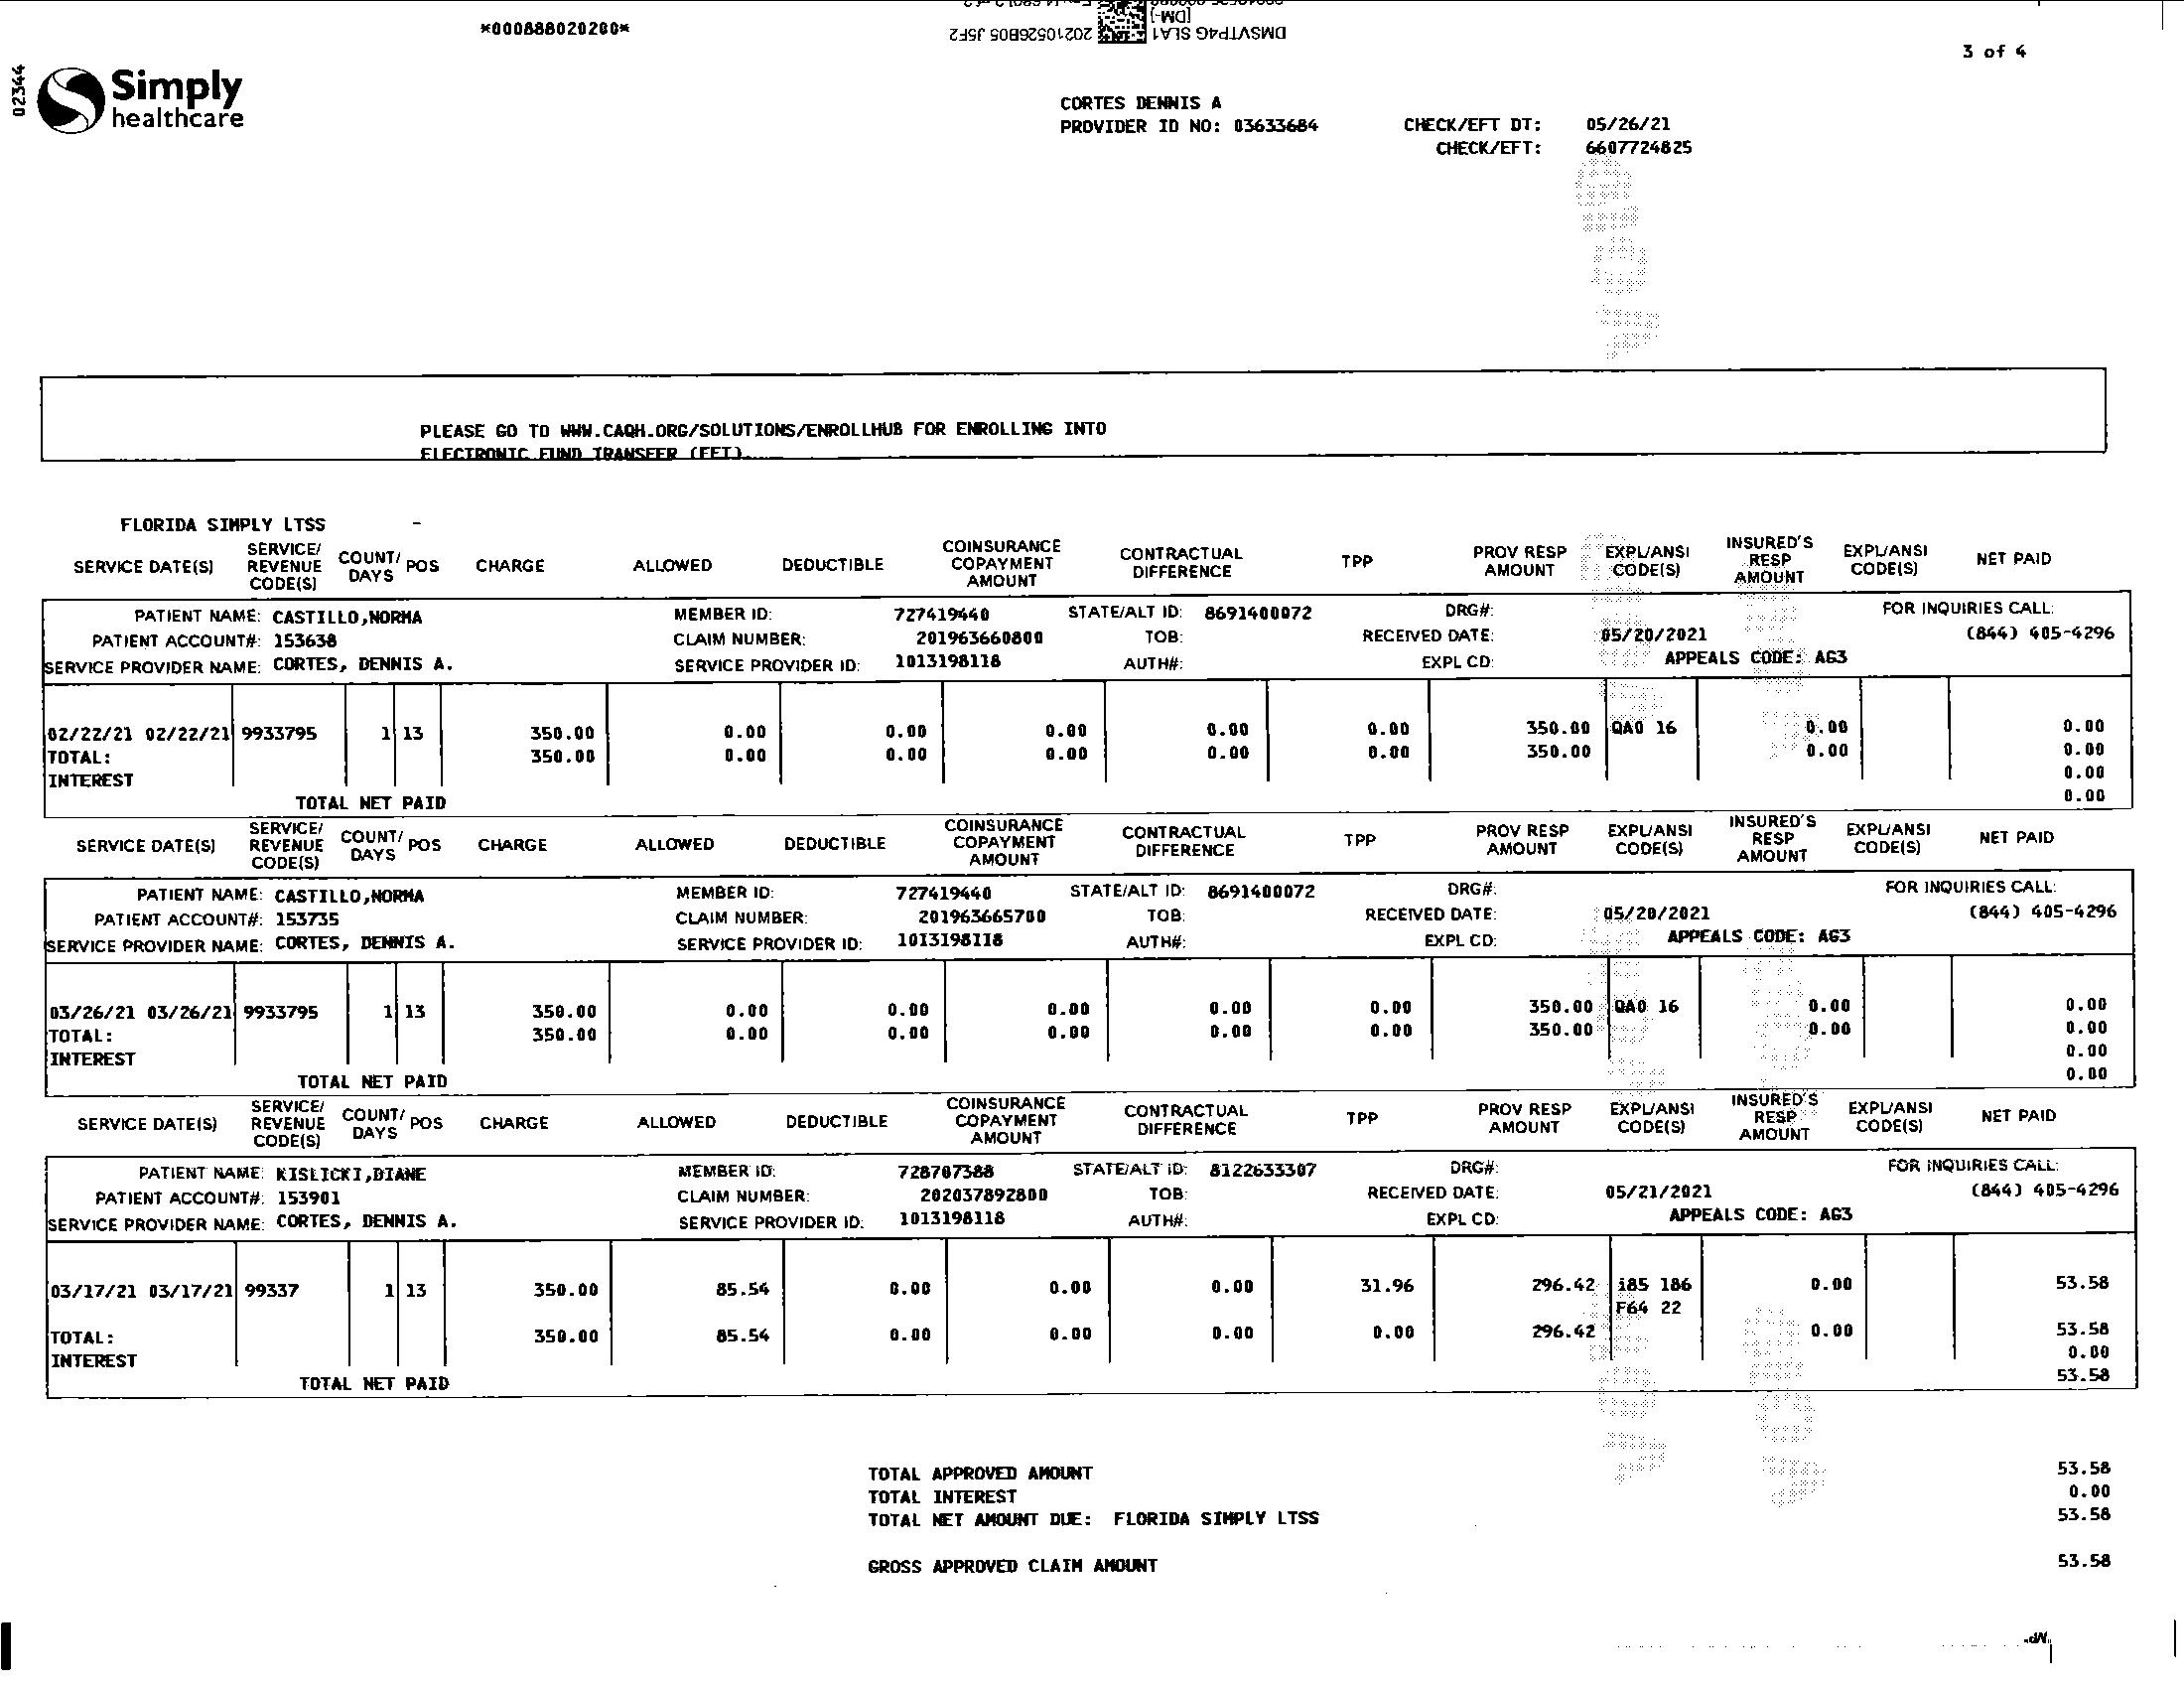data: (48, 871, 2122, 949), (46, 601, 2117, 674), (46, 1160, 2138, 1227)
table: (32, 1099, 2150, 1410), (21, 816, 2145, 1094), (19, 532, 2145, 803)
